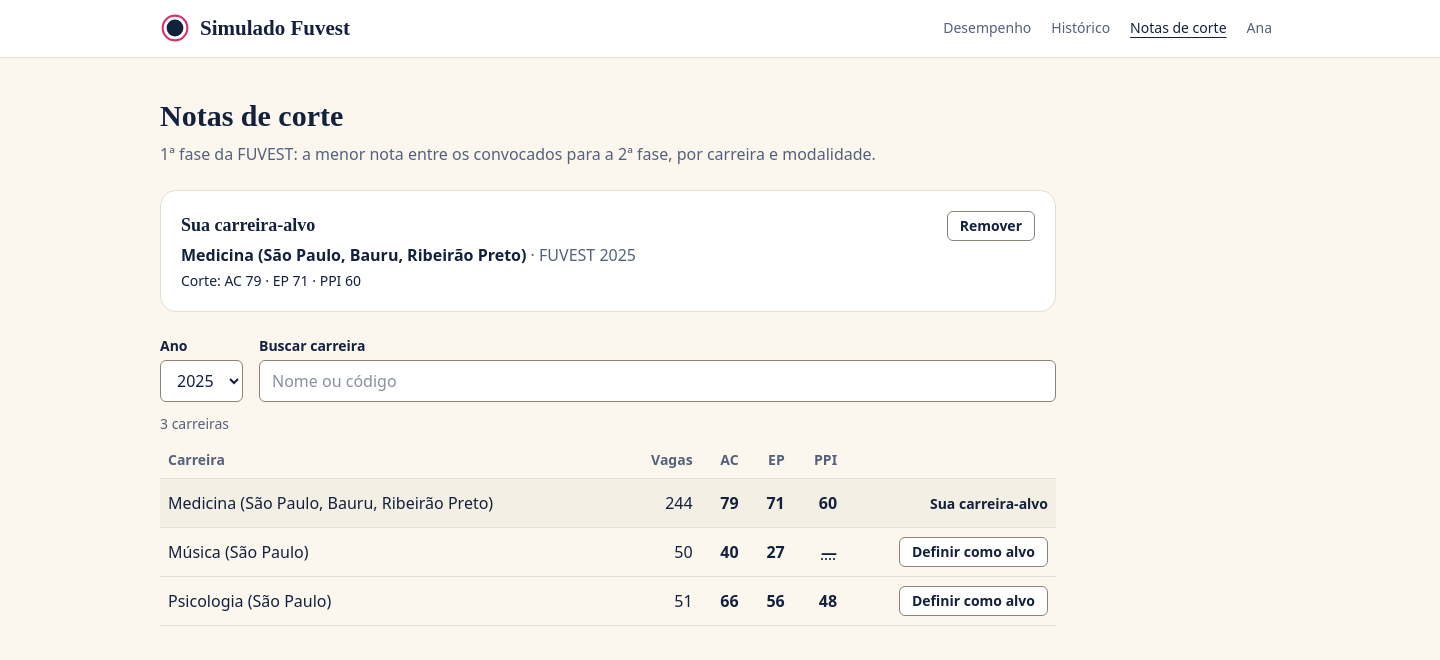
Test case: Carreira-alvo na página (UT-058) › remove a carreira-alvo
The width and height of the screenshot is (1440, 660).
Click the button "Remover" at [991, 226], box [947,211,1035,241]
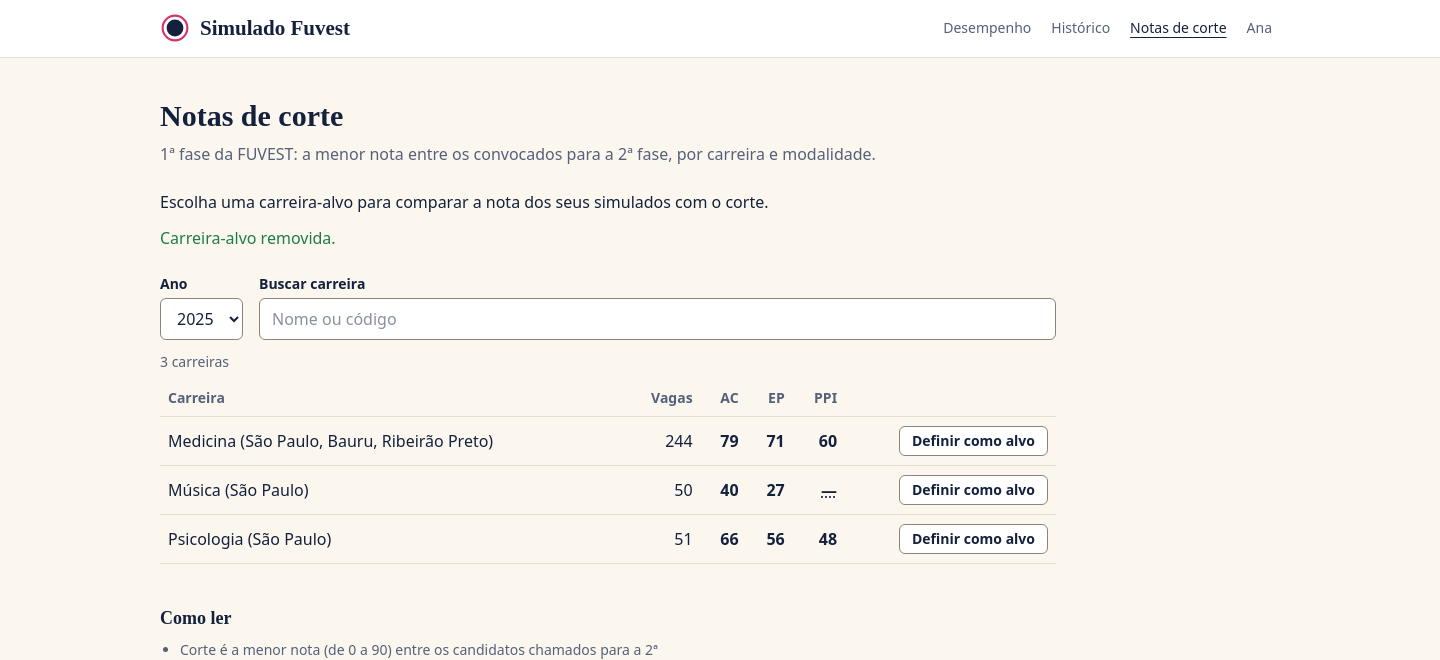
Result: the message reads "Carreira-alvo removida." at [160,227,336,249]
Result: the heading "Sua carreira-alvo" is gone
